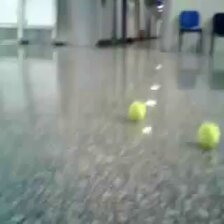tennis: (197, 122, 221, 147), (126, 101, 148, 119)
